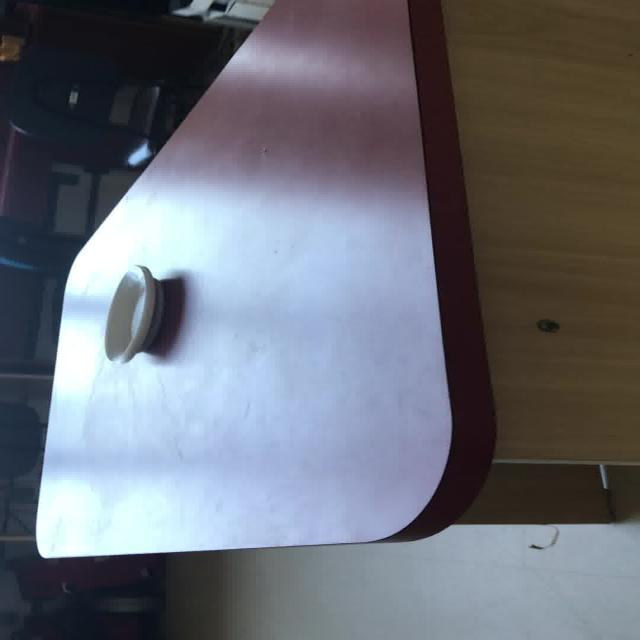plate: (33, 0, 497, 558), (103, 264, 164, 363)
